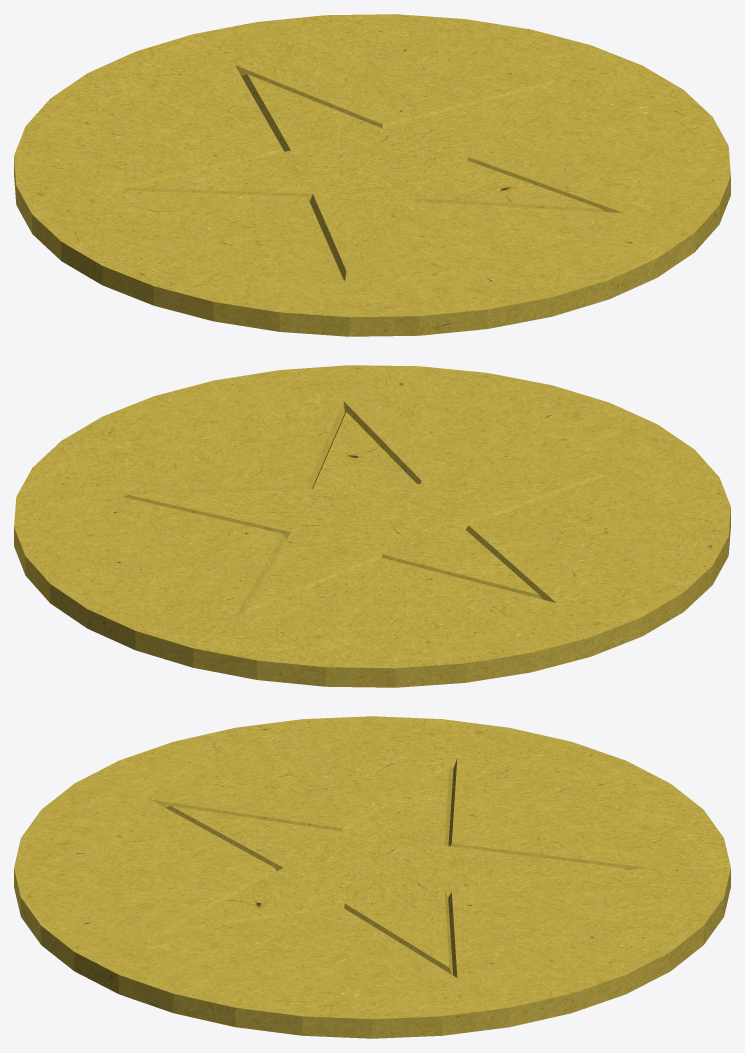
File: dalgona_cookie_star_squid_game_cookies.glb
The picture shows the model from 3 angles, top to bottom: view 1: azimuth 30°, elevation 25°; view 2: azimuth 150°, elevation 25°; view 3: azimuth 270°, elevation 25°; orthographic projection.
Visible parts, largest first — view 1: Mesh_DalgonaCookieStar; view 2: Mesh_DalgonaCookieStar; view 3: Mesh_DalgonaCookieStar.
Boxes of the visible parts, x1,y1,x2,y2 form: Mesh_DalgonaCookieStar: [14, 14, 730, 336]; Mesh_DalgonaCookieStar: [14, 365, 730, 687]; Mesh_DalgonaCookieStar: [14, 716, 730, 1038].
Size of the model in its own units: 0.1 by 0.003 by 0.1.
Materials: 1 (1 with a texture image).
